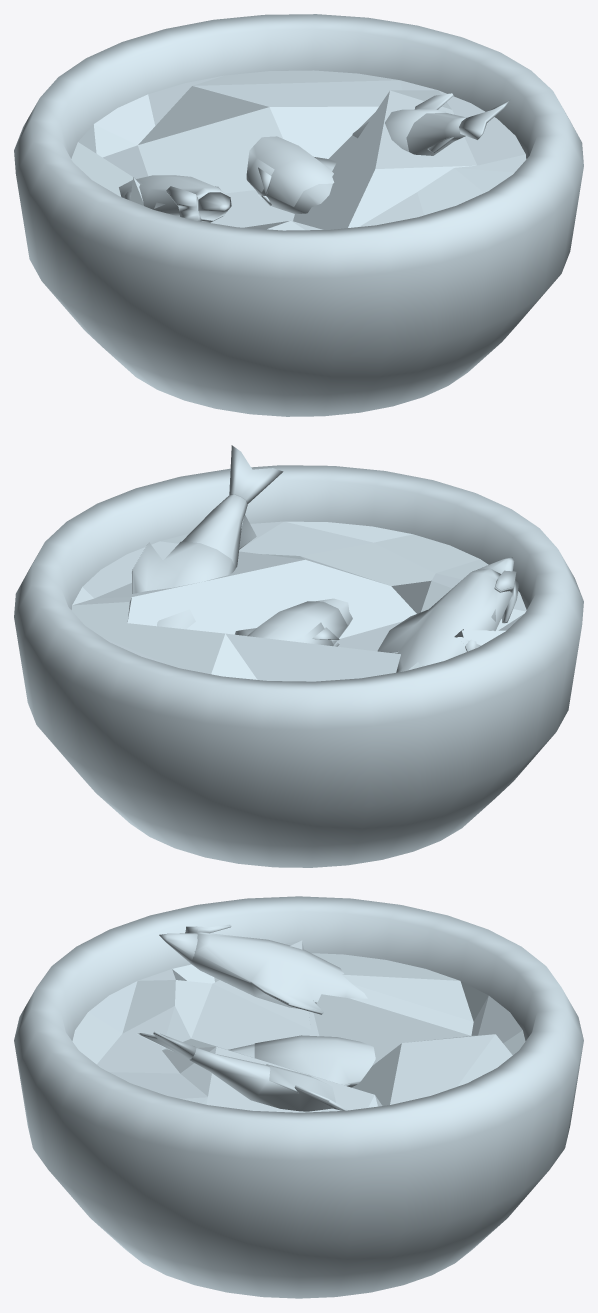
File: fishSoup.fbx
3 views of the same model, one above another, from view 1: azimuth 30°, elevation 25°; view 2: azimuth 150°, elevation 25°; view 3: azimuth 270°, elevation 25° (orthographic).
Visible parts, largest first — view 1: fishSoup; view 2: fishSoup; view 3: fishSoup.
Part boxes in pixels (left/top/right/bottom): fishSoup: left=14, top=14, right=583, bottom=416; fishSoup: left=14, top=445, right=583, bottom=867; fishSoup: left=14, top=896, right=583, bottom=1298.
Bounding box in the file's own units: 252 × 125 × 252.
